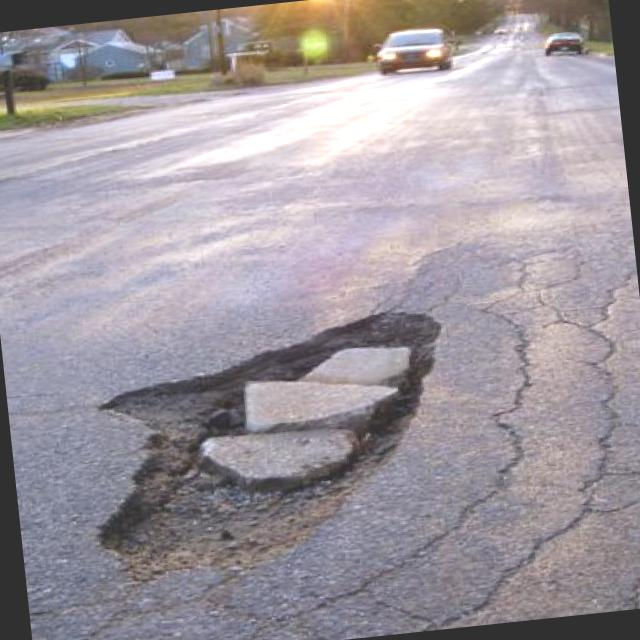pothole: (66, 299, 470, 595)
